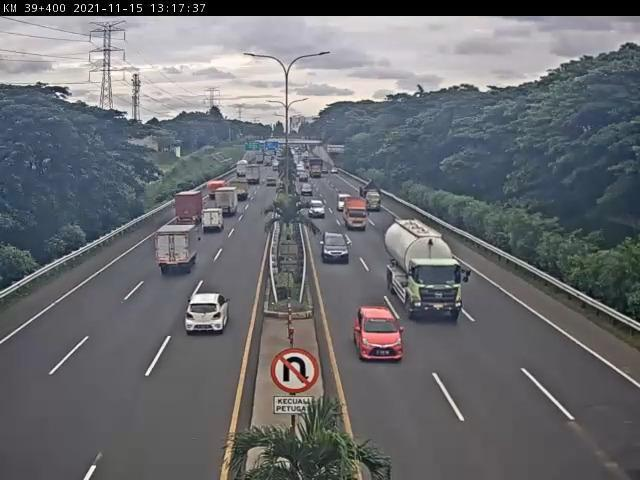car: (353, 306, 405, 362), (184, 290, 230, 334), (320, 228, 351, 266), (310, 196, 329, 220)
truck: (384, 219, 470, 324), (157, 225, 206, 274), (175, 190, 208, 224), (342, 198, 370, 233), (360, 181, 384, 214), (200, 207, 227, 233)
